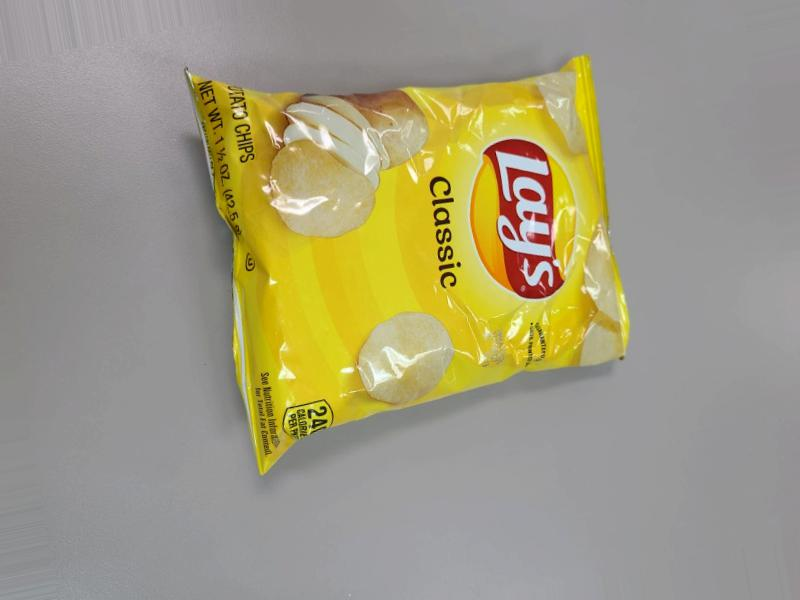lays: (262, 22, 653, 563)
